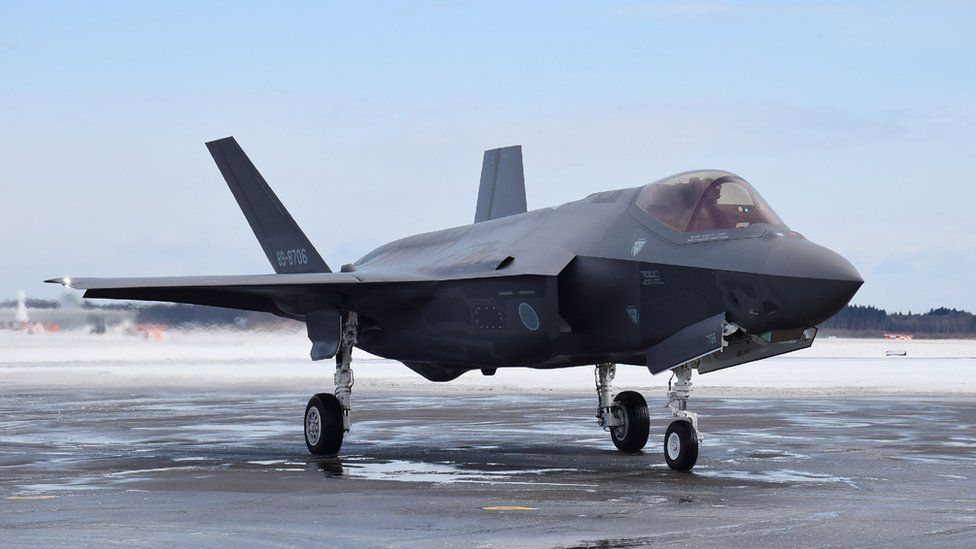F35: (39, 129, 868, 474)
